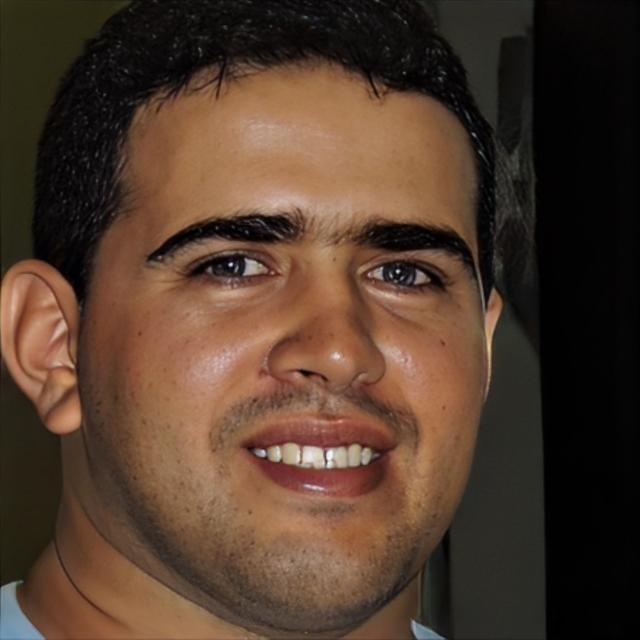disgust: (80, 48, 490, 612)
